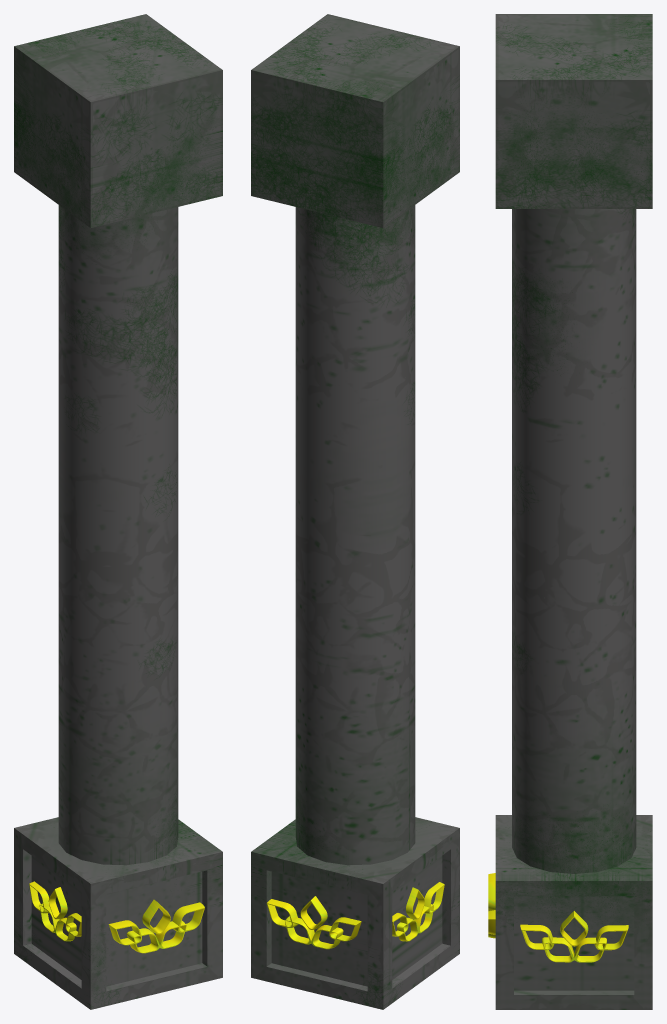
Rendered from Pillar.glb.
3 renders of one model, left to right at view 1: azimuth 30°, elevation 25°; view 2: azimuth 150°, elevation 25°; view 3: azimuth 270°, elevation 25°, orthographic. The views are drawn at different scales.
Parts seen in each view (by area): view 1: Pillar; view 2: Pillar; view 3: Pillar.
Part boxes in pixels (left/top/right/bottom): Pillar: left=14, top=14, right=222, bottom=1009; Pillar: left=251, top=14, right=459, bottom=1009; Pillar: left=488, top=14, right=652, bottom=1009.
Size of the model in its own units: 0.7517 by 4.91 by 0.7864.
Materials: 2 (2 with a texture image).
